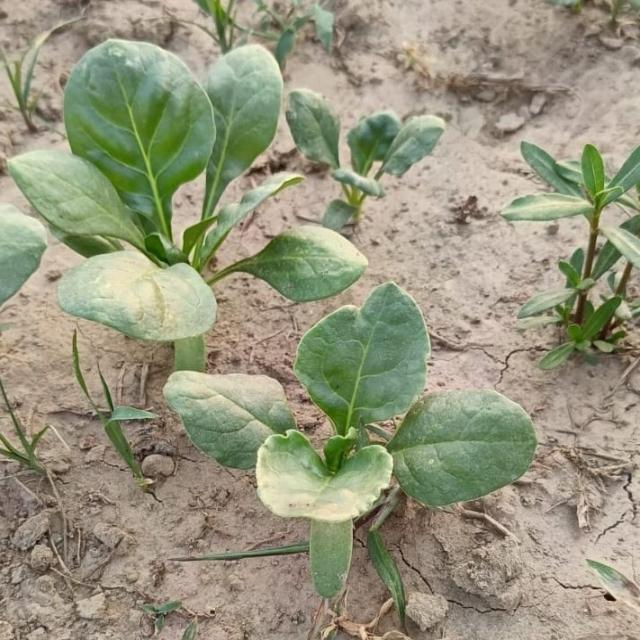plant: (9, 40, 535, 598)
